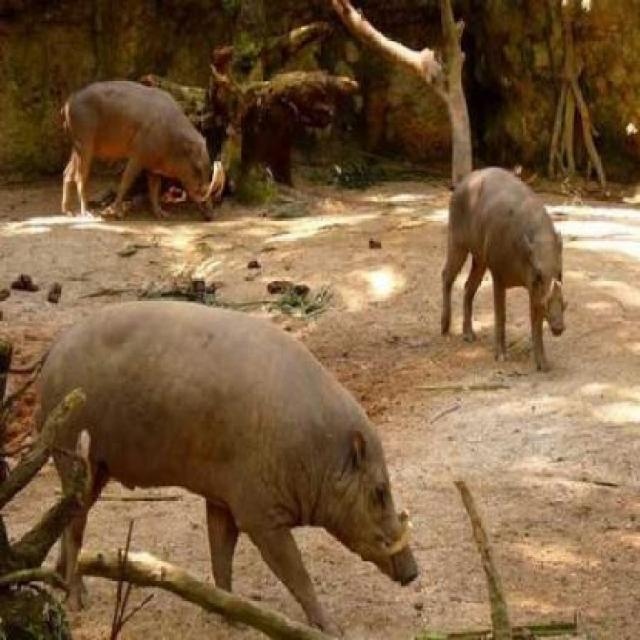pig: (17, 231, 433, 639), (38, 49, 240, 250), (426, 144, 581, 368)
